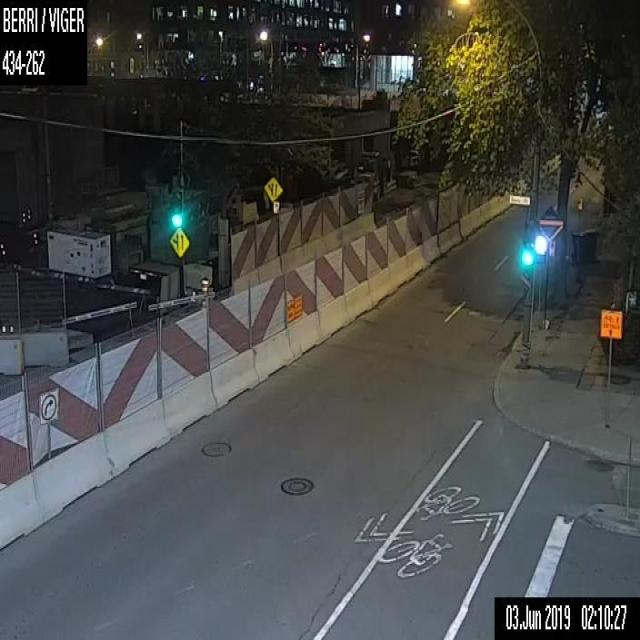construction: (0, 80, 552, 547), (600, 306, 622, 428), (199, 277, 210, 301)
